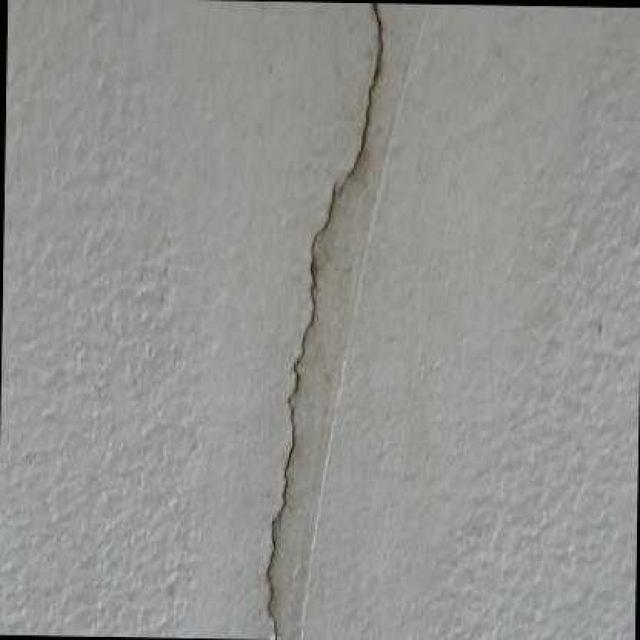D00: (264, 1, 379, 639)
